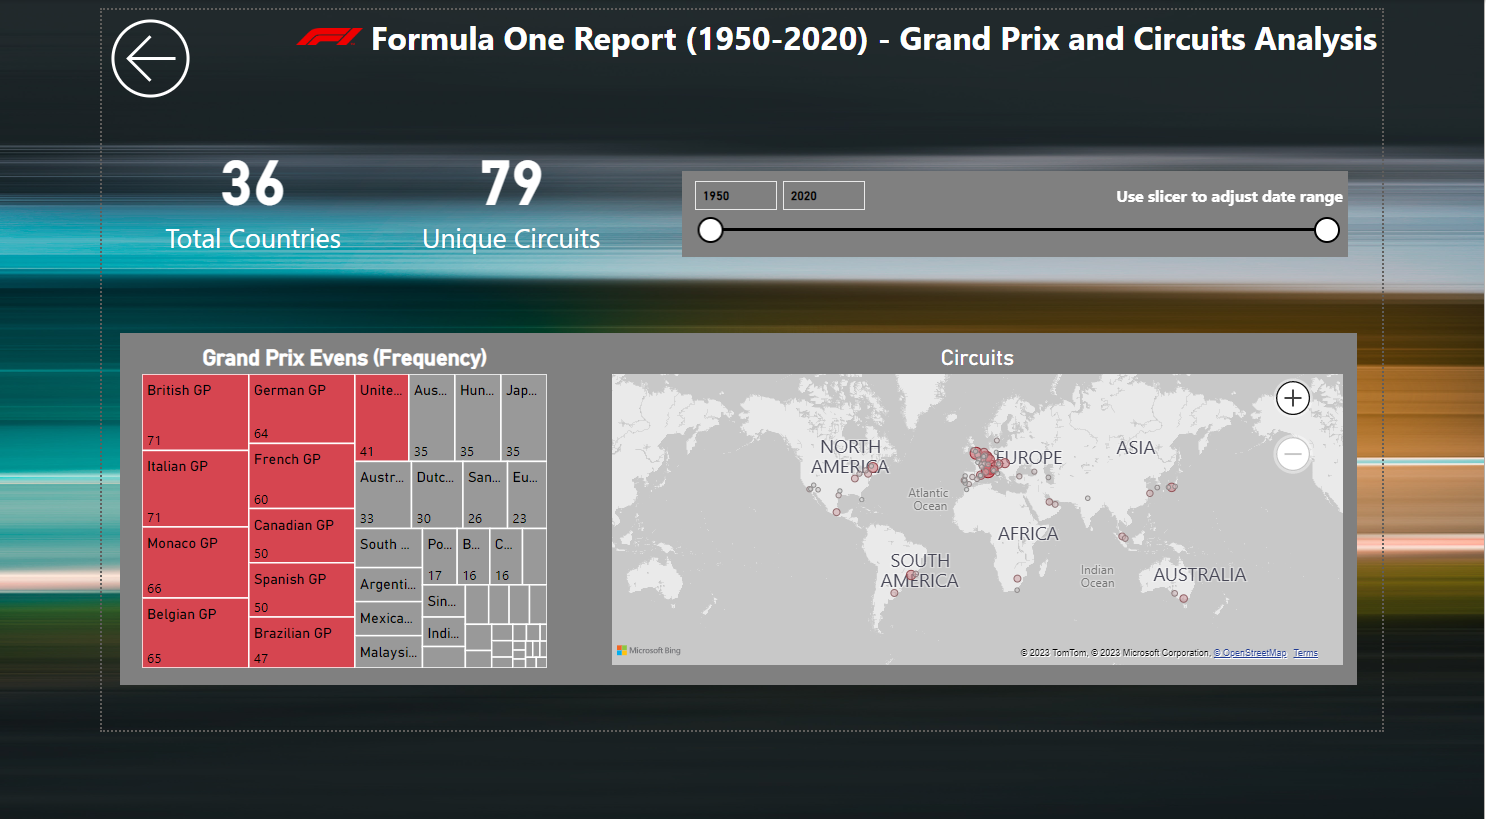

The dashboard page shown, as its layout file describes it:
{"tool":"powerbi","page":{"name":"Grand Prix and Circuits Analysis Page","canvas":[1280,720],"ordinal":3},"visuals":[{"type":"shape","box":[18,323,1237,352],"z":0},{"type":"textbox","box":[249,0,1031,53],"z":1000},{"type":"image","box":[189,0,77,53],"z":2000},{"type":"card","fields":{"Values":["Count(circuits.country)"]},"box":[25,97,252,171],"z":3000},{"type":"card","fields":{"Values":["Count(circuits.circuit_name)"]},"box":[277,97,264,171],"z":4000},{"type":"treemap","title":"Grand Prix Evens (Frequency)","fields":{"Group":["races.grand_prix"],"Values":["CountNonNull(races.grand_prix)"]},"box":[35,335,415,328],"z":5000},{"type":"slicer","fields":{"Values":["races.date.Variation.Date Hierarchy.Year"]},"box":[580,161,666,86],"z":6000},{"type":"textbox","box":[998,170,248,34],"z":7000},{"type":"map","title":"Circuits","fields":{"Y":["circuits.latitude"],"X":["circuits.longtitude"],"Size":["CountNonNull(races.grand_prix)"]},"box":[505,335,741,325],"z":8000},{"type":"actionButton","box":[0,0,207,97],"z":9000}]}

Visuals, with their boxes in screenshot pixels (x1, y1, x2, y2), scaled from the page's 1280x720 canvas onto the 1486x819 screenshot:
shape: {"x1": 21, "y1": 367, "x2": 1457, "y2": 768}
textbox: {"x1": 289, "y1": 0, "x2": 1485, "y2": 60}
image: {"x1": 219, "y1": 0, "x2": 309, "y2": 60}
card - Count(circuits.country): {"x1": 29, "y1": 110, "x2": 322, "y2": 305}
card - Count(circuits.circuit_name): {"x1": 322, "y1": 110, "x2": 628, "y2": 305}
"Grand Prix Evens (Frequency)" treemap: {"x1": 41, "y1": 381, "x2": 522, "y2": 754}
slicer - races.date.Variation.Date Hierarchy.Year: {"x1": 673, "y1": 183, "x2": 1447, "y2": 281}
textbox: {"x1": 1159, "y1": 193, "x2": 1447, "y2": 232}
"Circuits" map: {"x1": 586, "y1": 381, "x2": 1447, "y2": 751}
actionButton: {"x1": 0, "y1": 0, "x2": 240, "y2": 110}
